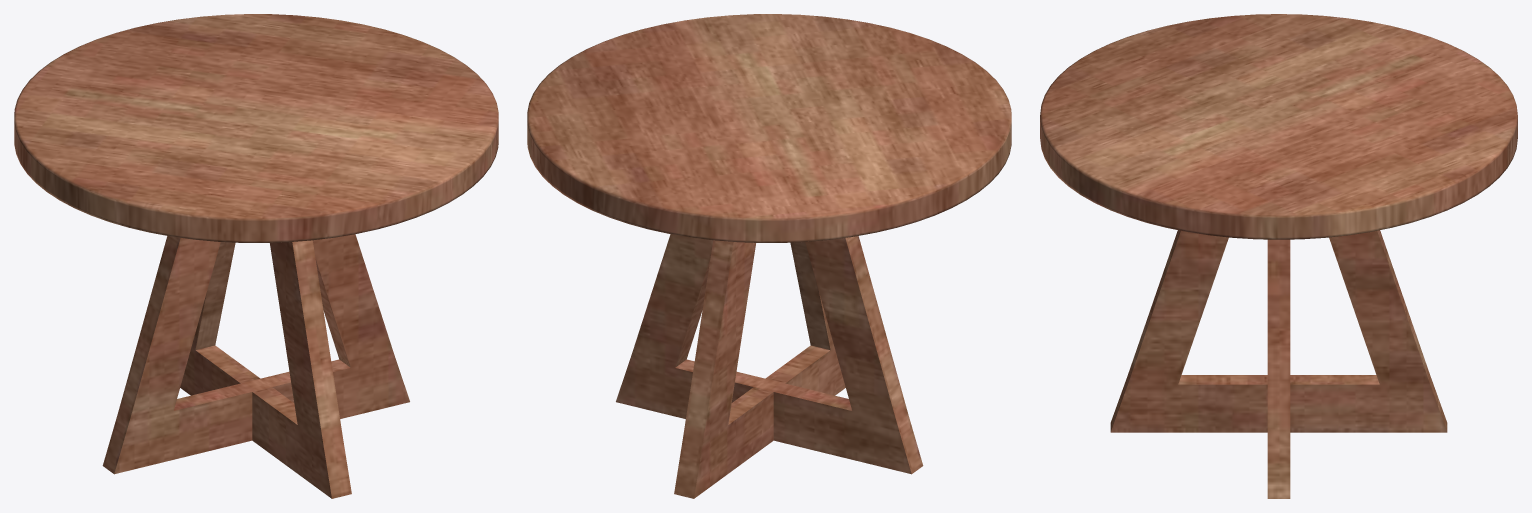
The model's file is Table21.glb.
3 renders of one model, left to right at view 1: azimuth 30°, elevation 25°; view 2: azimuth 150°, elevation 25°; view 3: azimuth 270°, elevation 25°, orthographic.
Parts seen in each view (by area): view 1: Table21_model; view 2: Table21_model; view 3: Table21_model.
Boxes of the visible parts, x1=… form: Table21_model: x1=14, y1=14, x2=498, y2=498; Table21_model: x1=527, y1=14, x2=1011, y2=498; Table21_model: x1=1040, y1=14, x2=1517, y2=498.
Size of the model in its own units: 2.2 by 1.6 by 2.2.
Materials: 1 (1 with a texture image).
